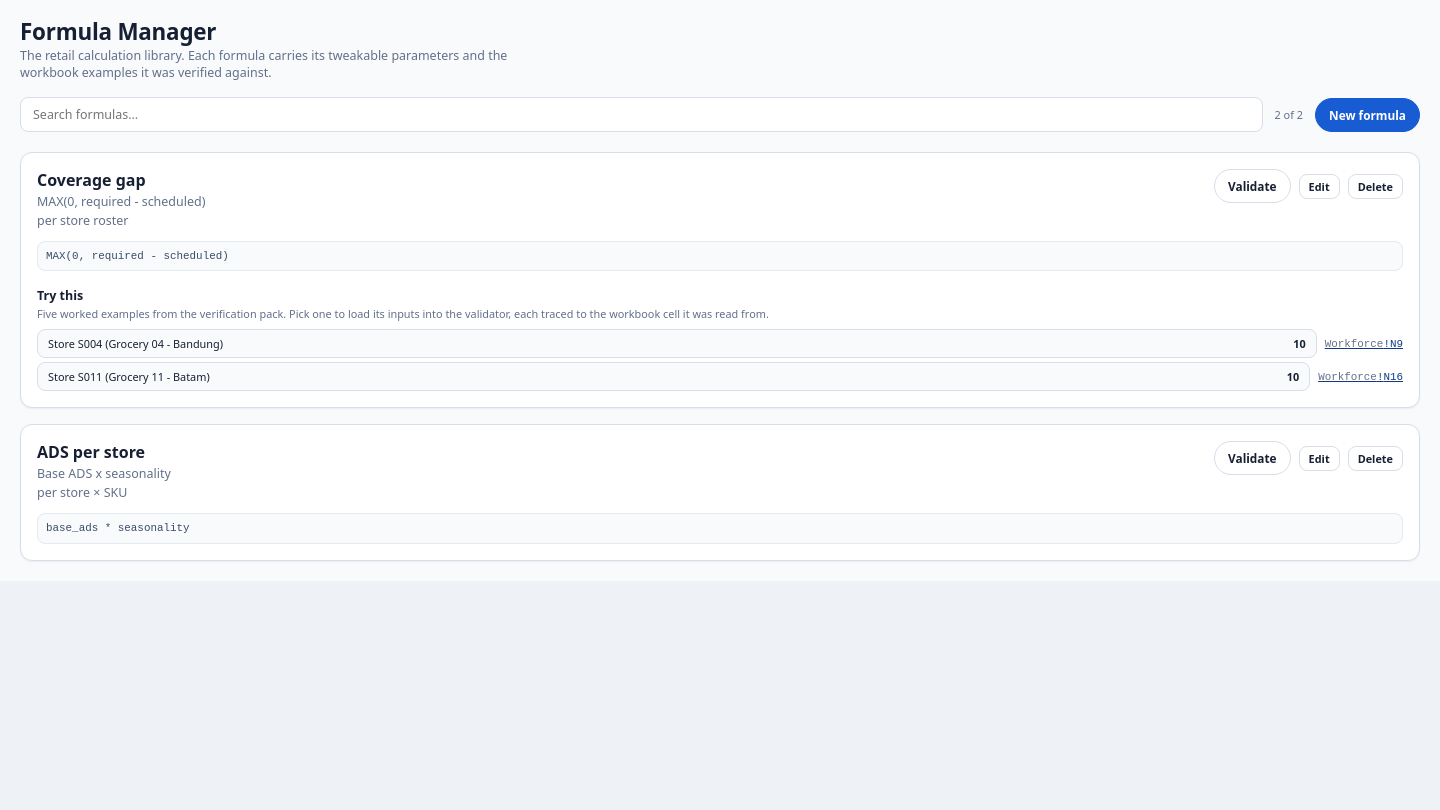
Test: Formula Manager › prefills the validator from a worked example and compares to the workbook
This screenshot has width=1440, height=810.
Expected: the heading "Coverage gap" is shown, x1=37 y1=169 x2=146 y2=191
Click the text "Store S011 (Grocery 11 - Batam)": (129, 377) x1=48 y1=369 x2=210 y2=384
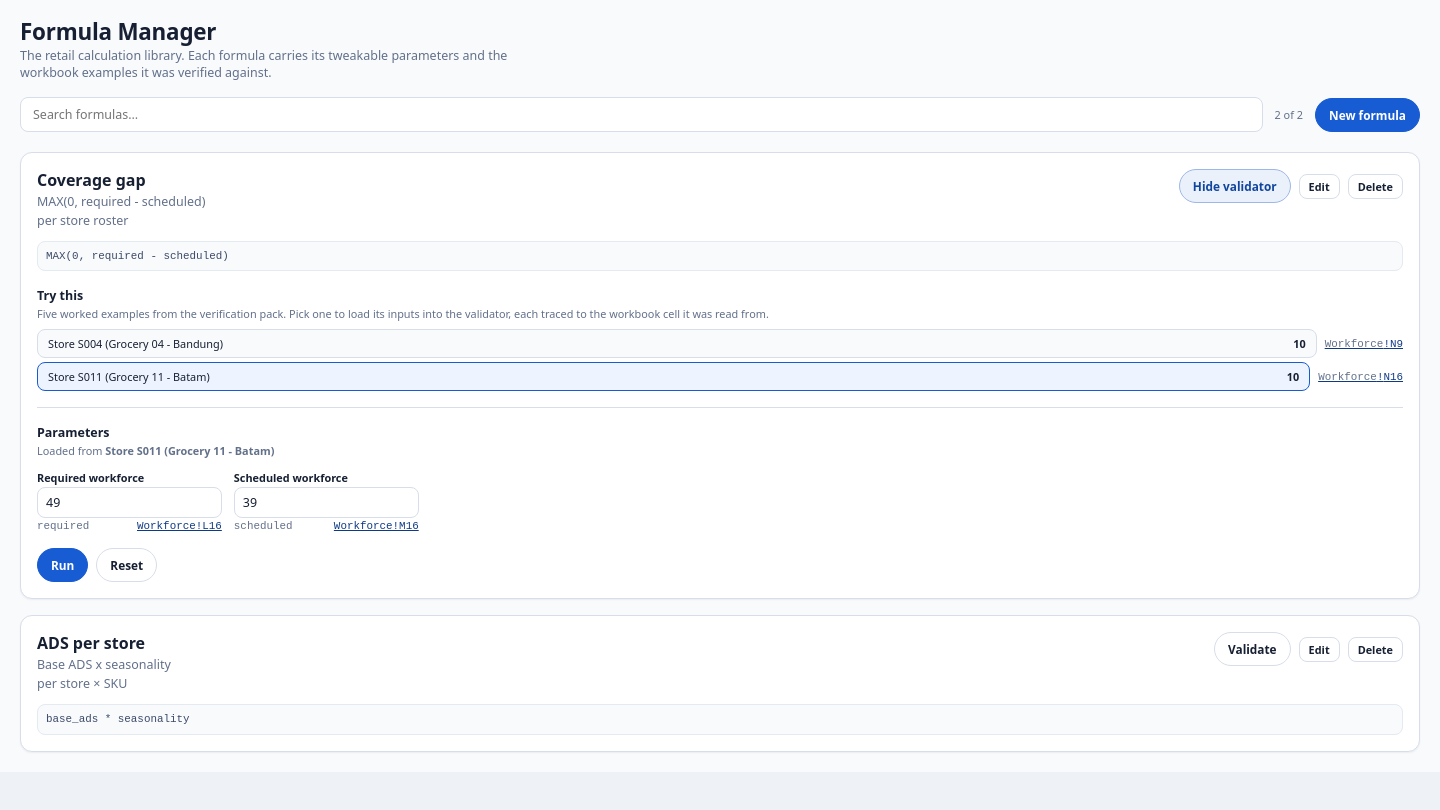
Expected: the number field labelled "Required workforce" holds "49", x1=37 y1=487 x2=222 y2=518
Expected: the number field labelled "Scheduled workforce" holds "39", x1=234 y1=487 x2=419 y2=518
Click the button "Run": (63, 565) x1=37 y1=548 x2=88 y2=582
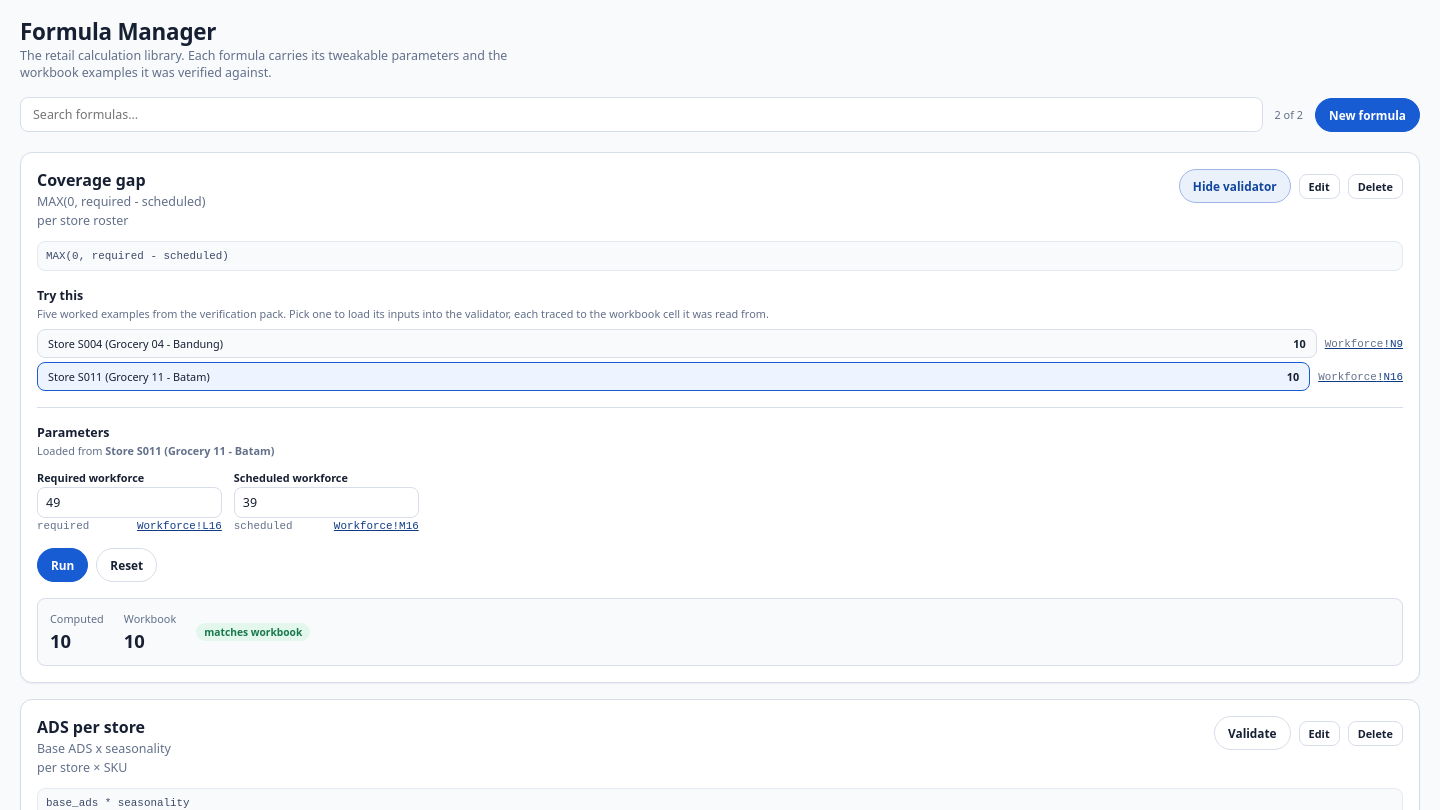
Expected: the element with test id "formula-result" is shown, x1=37 y1=598 x2=1403 y2=666
Expected: the text "Matches workbook" is shown, x1=196 y1=623 x2=310 y2=641
